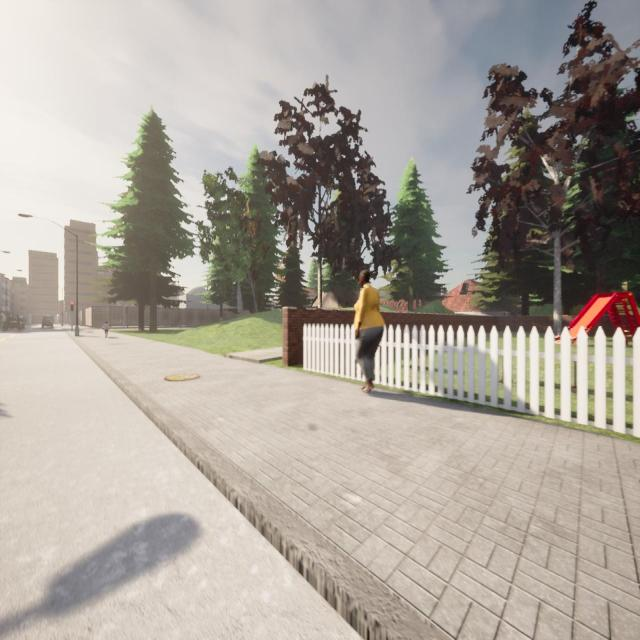Pedestrian: (354, 269, 384, 393), (102, 320, 110, 339)
Vehicle: (3, 314, 25, 332), (41, 315, 54, 329)
traffic_light: (71, 302, 73, 311)
